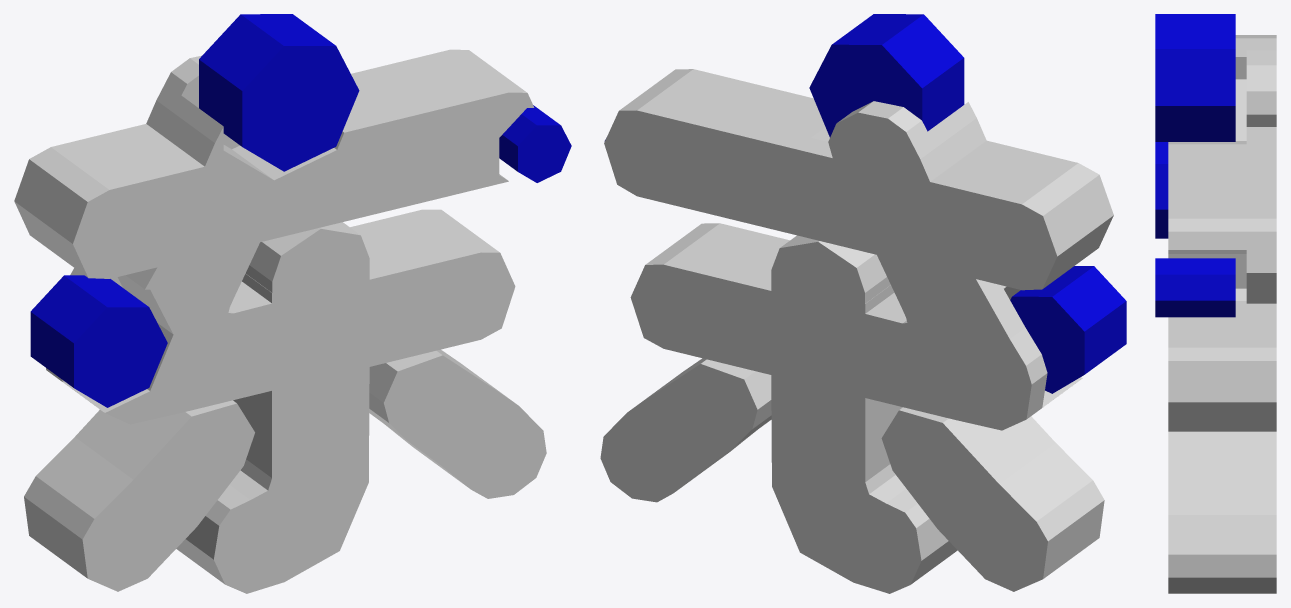
The model's file is Ch_Lite_China_东_01.fbx.
3 renders of one model, left to right at view 1: azimuth 30°, elevation 25°; view 2: azimuth 150°, elevation 25°; view 3: azimuth 270°, elevation 25°, orthographic. The views are drawn at different scales.
Parts seen in each view (by area): view 1: sphere1; view 2: sphere1; view 3: sphere1.
Boxes of the visible parts, x1=… form: sphere1: x1=14, y1=14, x2=571, y2=593; sphere1: x1=600, y1=14, x2=1126, y2=593; sphere1: x1=1155, y1=14, x2=1276, y2=593.
Size of the model in its own units: 0.9796 by 1.03 by 0.2242.
